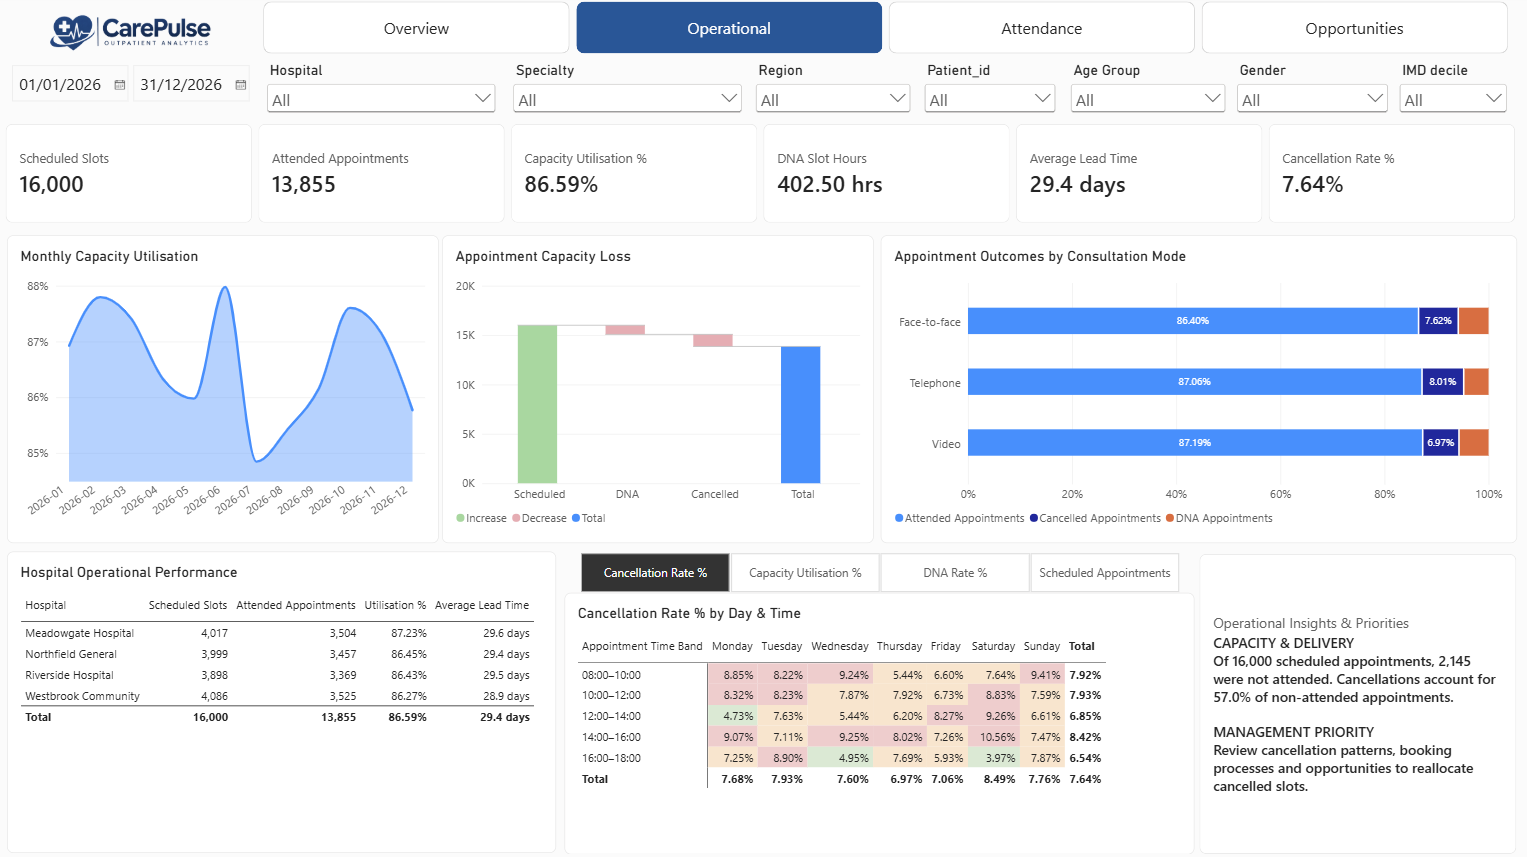

What the dashboard file says about the page in this screenshot:
{"tool":"powerbi","page":{"name":"Operational","canvas":[1920,1080],"ordinal":1},"visuals":[{"type":"pageNavigator","box":[338.3,9.4,1555.8,65.5],"z":0},{"type":"cardVisual","fields":{"Data":["03 Operational Measures.Scheduled Slots","01 Appointment Measures.Attended Appointments","03 Operational Measures.Capacity Utilisation %","03 Operational Measures.DNA Slot Hours","03 Operational Measures.Average Lead Time","01 Appointment Measures.Cancellation Rate %"]},"box":[17.2,161.5,1883.7,123.8],"z":1000},{"type":"slicer","fields":{"Values":["calendar.Date"]},"box":[17.1,84.4,321.1,65.9],"z":2000},{"type":"slicer","fields":{"Values":["dim_hospitals.hospital_name"]},"box":[337.9,84.4,294.8,73.3],"z":3000},{"type":"slicer","fields":{"Values":["dim_specialties.specialty_name"]},"box":[645,84.4,294.8,73.3],"z":4000},{"type":"slicer","fields":{"Values":["dim_hospitals.region"]},"box":[947.5,84.4,202.7,73.3],"z":5000},{"type":"slicer","fields":{"Values":["dim_patients.Age Group"]},"box":[1340.3,84.4,202.7,73.3],"z":6000},{"type":"slicer","fields":{"Values":["dim_patients.gender"]},"box":[1547.6,84.4,198,71.7],"z":7000},{"type":"slicer","fields":{"Values":["dim_patients.imd_decile"]},"box":[1750.3,84.4,143.4,73.3],"z":8000},{"type":"slicer","fields":{"Values":["dim_patients.patient_id"]},"box":[1157.9,84.4,173,73.3],"z":9000},{"type":"areaChart","title":"\tMonthly Capacity Utilisation","fields":{"Category":["calendar.Year Month"],"Y":["03 Operational Measures.Capacity Utilisation %"]},"box":[19.3,301.1,538.5,384.1],"z":10000},{"type":"hundredPercentStackedBarChart","title":"Appointment Outcomes by Consultation Mode","fields":{"Category":["fact_appointments.consultation_mode"],"Y":["01 Appointment Measures.Attended Appointments","01 Appointment Measures.Cancelled Appointments","01 Appointment Measures.DNA Appointments"]},"box":[1107.8,301.1,793.2,384.1],"z":11000},{"type":"tableEx","title":"\tHospital Operational Performance","fields":{"Values":["dim_hospitals.hospital_name","03 Operational Measures.Scheduled Slots","01 Appointment Measures.Attended Appointments","03 Operational Measures.Capacity Utilisation %","03 Operational Measures.Average Lead Time"]},"box":[19.3,694.8,685.2,376.4],"z":12000},{"type":"pivotTable","fields":{"Columns":["fact_appointments.Appointment Day"],"Rows":["fact_appointments.Appointment Time Band"],"Values":["03 Operational Measures.Operational Heatmap Value"]},"box":[714.2,746.9,785.5,326.2],"z":13000},{"type":"waterfallChart","title":"Appointment Capacity Loss","fields":{"Category":["Capacity Waterfall.Stage"],"Y":["03 Operational Measures.Capacity Waterfall Value"]},"box":[561.6,301.1,538.5,384.1],"z":14000},{"type":"slicer","fields":{"Values":["Operational Heatmap Selector.Metric"]},"box":[714.2,694.8,785.5,52.1],"z":15000},{"type":"cardVisual","fields":{"Data":["06_Dynamic_Insights.Operational Executive Insight"]},"box":[1505.4,698.7,395.7,374.4],"z":15001},{"type":"image","box":[21.8,9.4,299.3,74.8],"z":15002}]}

Visuals, with their boxes in screenshot pixels (x1, y1, x2, y2), scaled from the page's 1920x1080 canvas onto the 1527x857 screenshot:
pageNavigator: 269 7 1506 59
cardVisual - 03 Operational Measures.Scheduled Slots x 01 Appointment Measures.Attended Appointments: 14 128 1512 226
slicer - calendar.Date: 14 67 269 119
slicer - dim_hospitals.hospital_name: 269 67 503 125
slicer - dim_specialties.specialty_name: 513 67 747 125
slicer - dim_hospitals.region: 754 67 915 125
slicer - dim_patients.Age Group: 1066 67 1227 125
slicer - dim_patients.gender: 1231 67 1388 124
slicer - dim_patients.imd_decile: 1392 67 1506 125
slicer - dim_patients.patient_id: 921 67 1058 125
"	Monthly Capacity Utilisation" areaChart: 15 239 444 544
"Appointment Outcomes by Consultation Mode" hundredPercentStackedBarChart: 881 239 1512 544
"	Hospital Operational Performance" tableEx: 15 551 560 850
pivotTable - fact_appointments.Appointment Day x fact_appointments.Appointment Time Band: 568 593 1193 852
"Appointment Capacity Loss" waterfallChart: 447 239 875 544
slicer - Operational Heatmap Selector.Metric: 568 551 1193 593
cardVisual - 06_Dynamic_Insights.Operational Executive Insight: 1197 554 1512 852
image: 17 7 255 67
